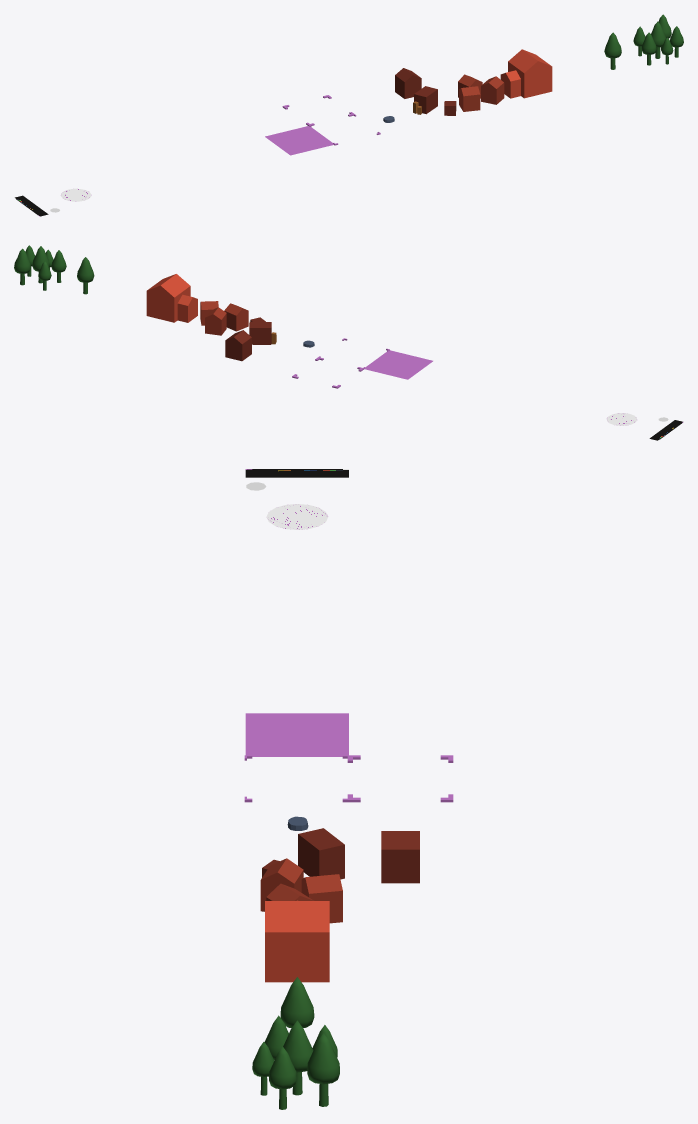
Rendered from models.glb.
The picture shows the model from 3 angles, top to bottom: view 1: azimuth 30°, elevation 25°; view 2: azimuth 150°, elevation 25°; view 3: azimuth 270°, elevation 25°; orthographic projection. The views are drawn at different scales.
Parts seen in each view (by area): view 1: house.003, tree.002, house.002, tile_bg, house.001, house.004, tree.001, road.001; view 2: house.003, tree.002, house.002, tile_bg, house.004, house.001, tree.001, road.001; view 3: house.003, tree.002, tile_bg, house.002, house.001, house.004, road.001, tree.001, road_segment.
Part boxes in pixels (box(x1,y1,x2,y2)): house.003: box(500, 49, 552, 98); tree.002: box(633, 14, 683, 65); house.002: box(458, 74, 504, 111); tile_bg: box(265, 126, 334, 155); house.001: box(413, 86, 456, 115); house.004: box(395, 68, 421, 98); tree.001: box(604, 32, 621, 69); road.001: box(61, 188, 91, 201); house.003: box(146, 274, 197, 322); tree.002: box(14, 245, 66, 290); house.002: box(200, 301, 248, 335); tile_bg: box(364, 350, 432, 379); house.004: box(225, 330, 251, 361); house.001: box(249, 317, 276, 344); tree.001: box(77, 257, 94, 294); road.001: box(606, 413, 636, 425); house.003: box(265, 900, 329, 982); tree.002: box(252, 1015, 339, 1109); tile_bg: box(245, 713, 348, 756); house.002: box(260, 858, 342, 923); house.001: box(262, 828, 344, 879); house.004: box(381, 831, 419, 883); road.001: box(266, 504, 327, 529); tree.001: box(280, 977, 314, 1027); road_segment: box(245, 469, 348, 477).
Bounding box in the file's own units: 14.58 × 0.7814 × 2.02.
Materials: 1 (1 with a texture image).
